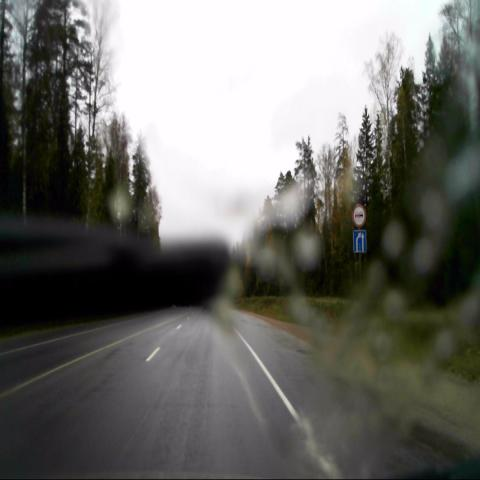3_20: (352, 203, 365, 228)
